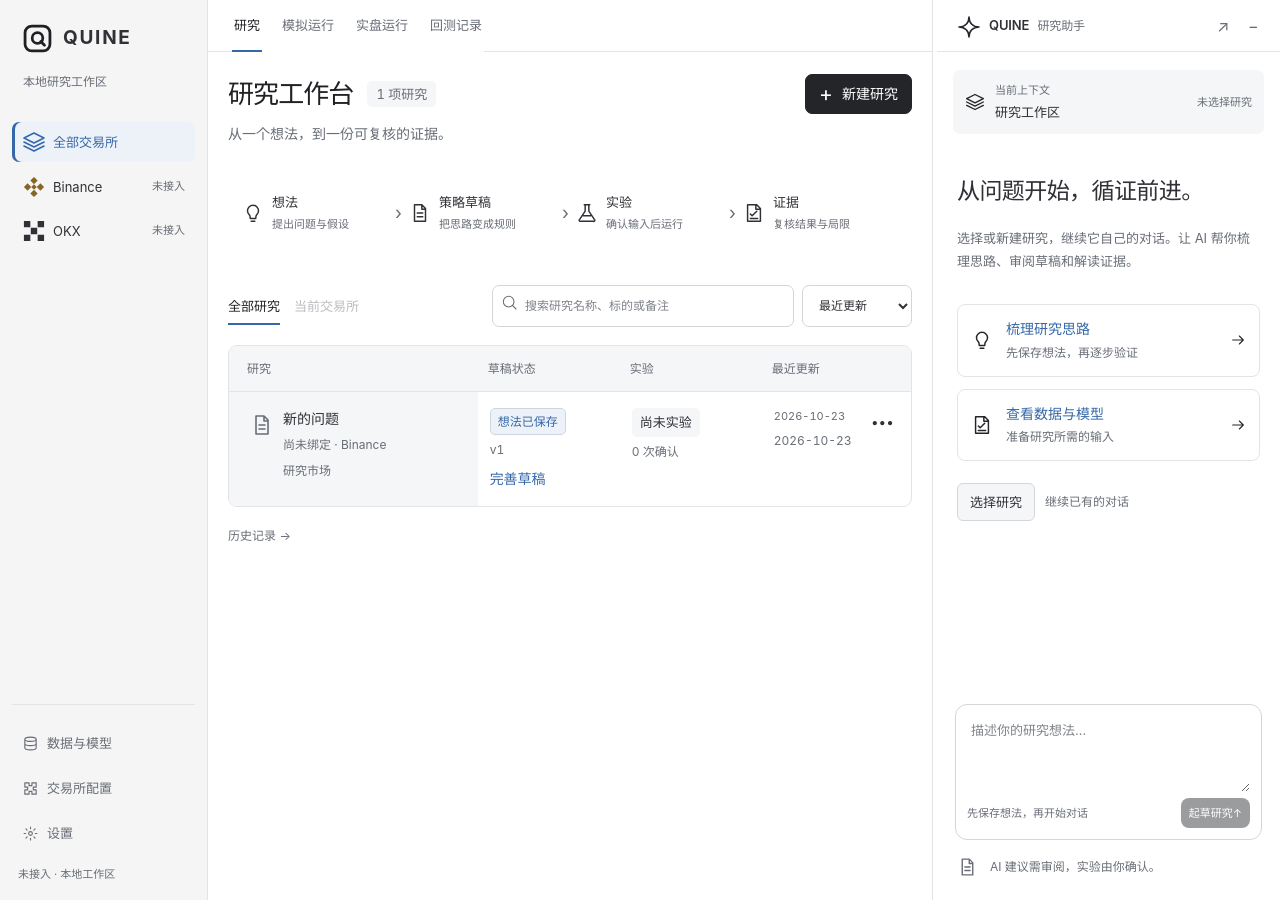
clears AI context when a server filter excludes the explicit selection and ignores late reads
This screenshot has width=1280, height=900.
Click the button named "选择研究 新的问题" at (259, 425), box 245,408 -> 273,442
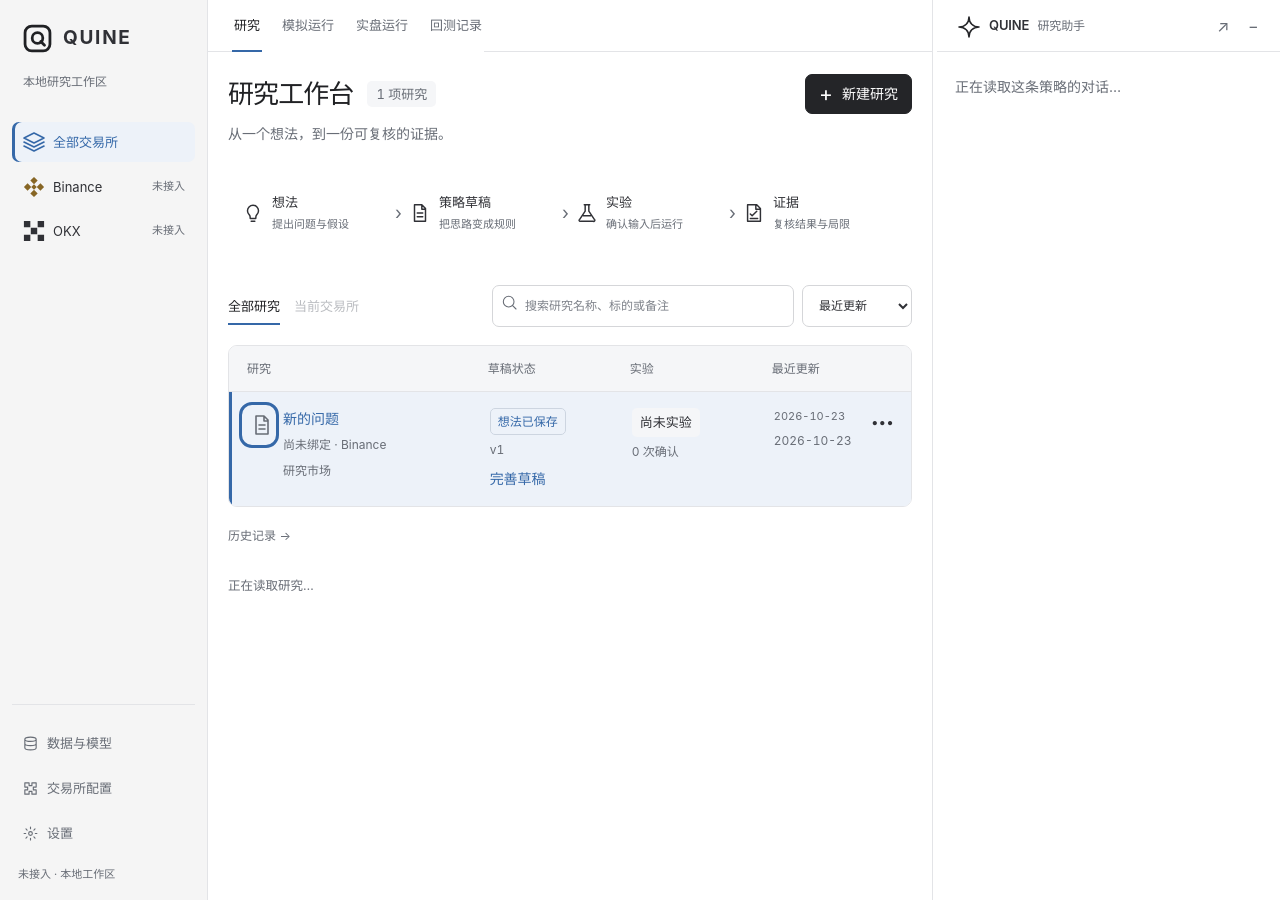
Expected: the text "正在读取这条策略的对话…" is shown, 955,78 -> 1121,95
Type "不存在" into the search field labelled "搜索研究" at (643, 306), box 492,285 -> 794,327
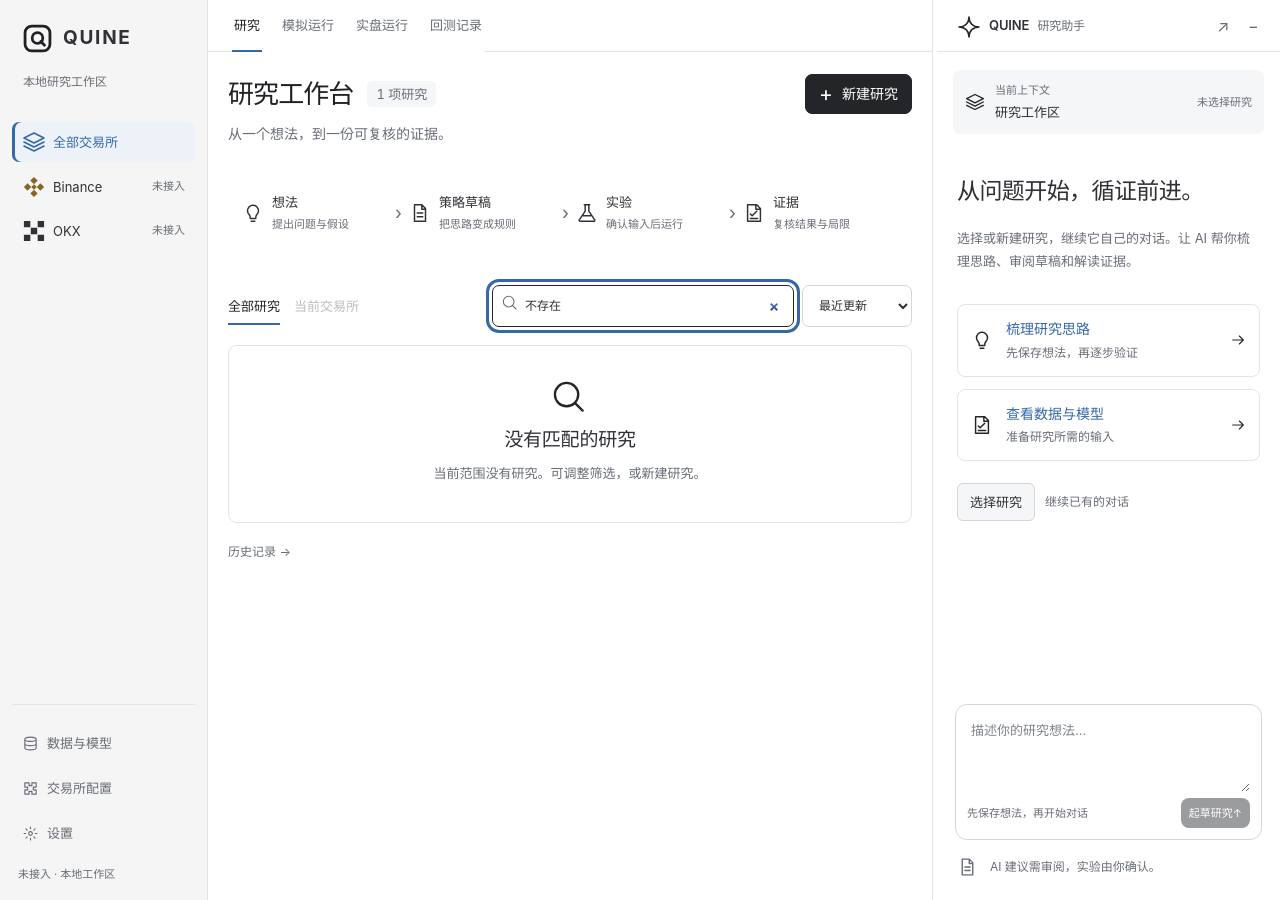
Expected: the heading "没有匹配的研究" is shown, 504,428 -> 636,451
Expected: the text "研究工作区" is shown, 995,104 -> 1060,120
